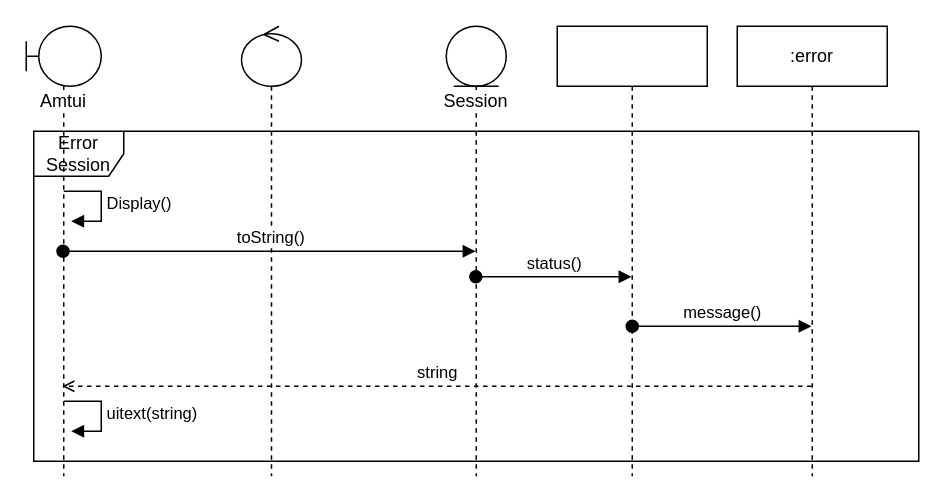
This 945x503 diagram has some shape labels left out. The shapes that lost their labels are listed below. From the top down, each one's box as (x1, y1, x2, y2) in pixels, then its label:
(240, 25, 302, 476): Manager
(556, 25, 707, 476): :status
